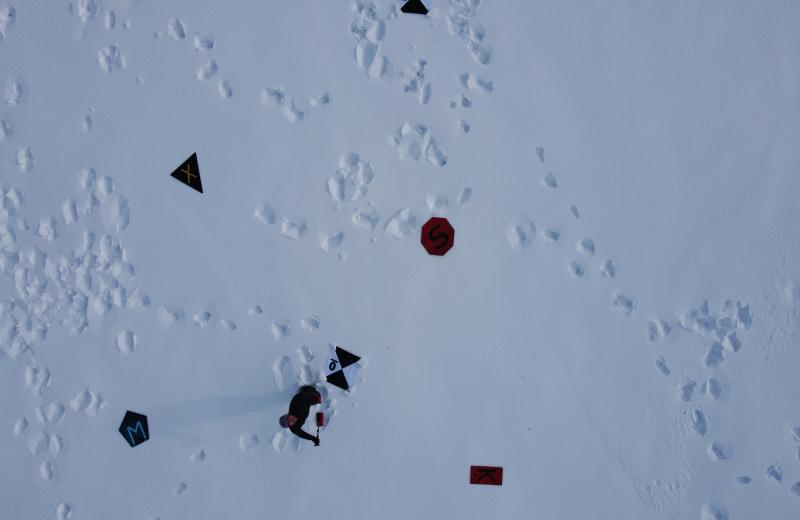Octagon: (417, 213, 458, 260)
Pentagon: (114, 405, 153, 455)
Rectangle: (463, 458, 514, 498)
Triangle: (164, 146, 211, 201)
